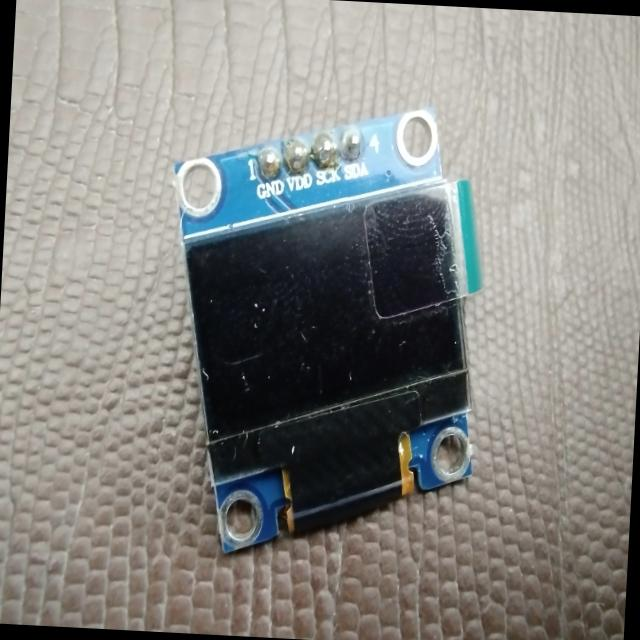oled: (147, 88, 508, 578)
